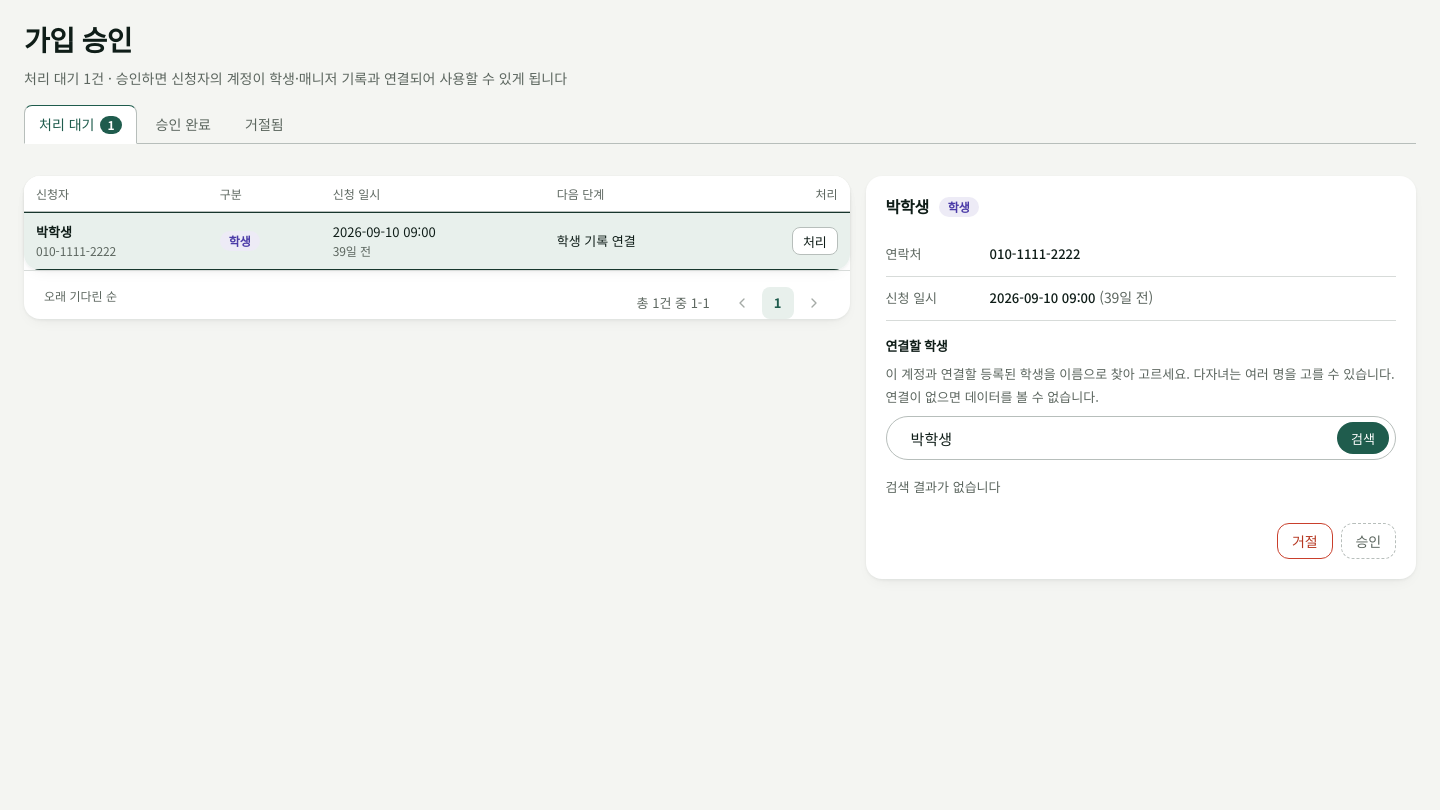
Test: SignupApprovalPage — 이미 연결된 대상(ALREADY_LINKED) › 학생 승인이 ALREADY_LINKED 로 거절되면 다른 학생을 고르라는 문구를 보이고 선택을 고칠 수 있다
What coordinates should you click on to do the following:
click the button "처리"
I would click on:
 (815, 241)
Its box is [792,227,838,255].
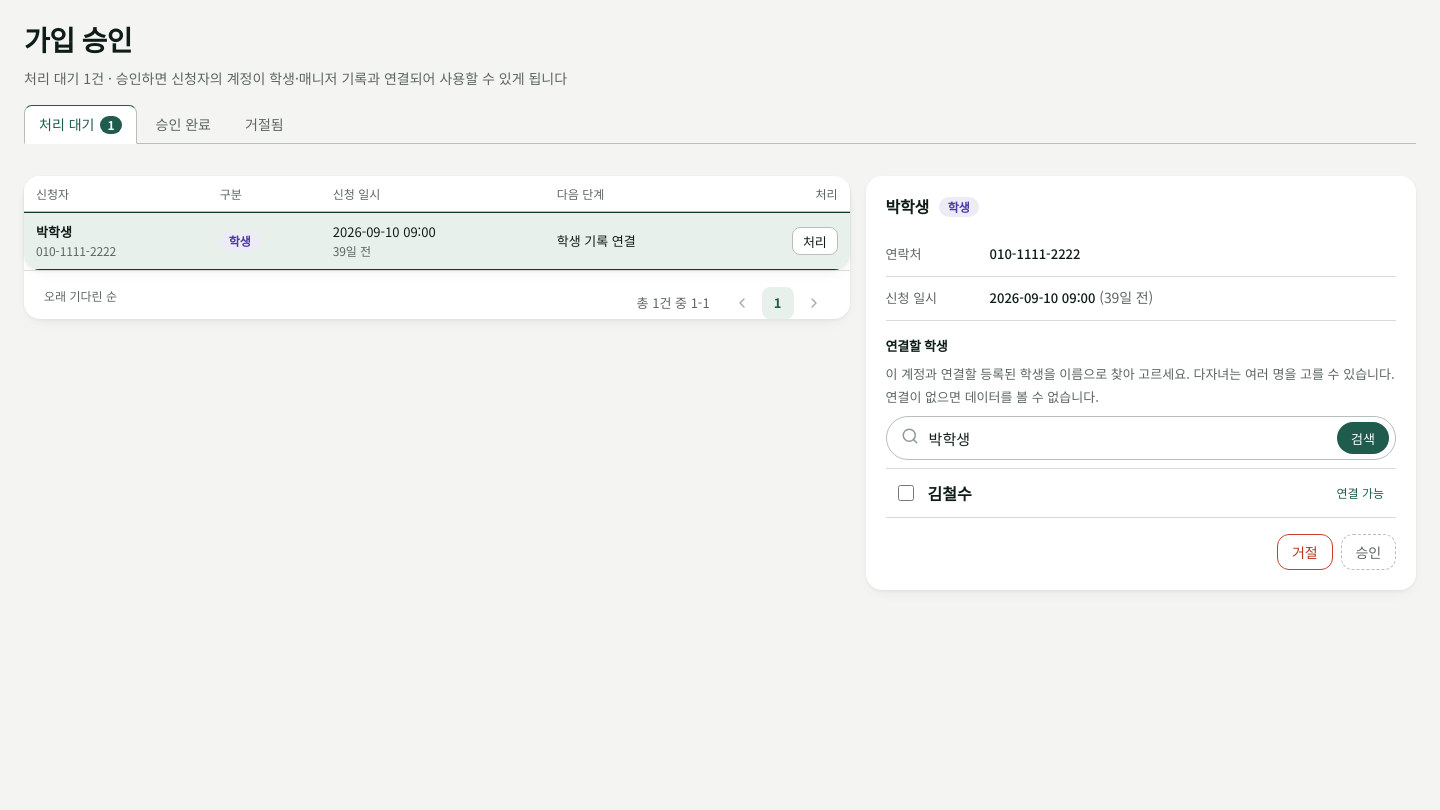
What coordinates should you click on to do the following:
click the checkbox labelled "김철수 연결 가능"
I would click on:
 (906, 493)
Its box is [898,485,914,501].
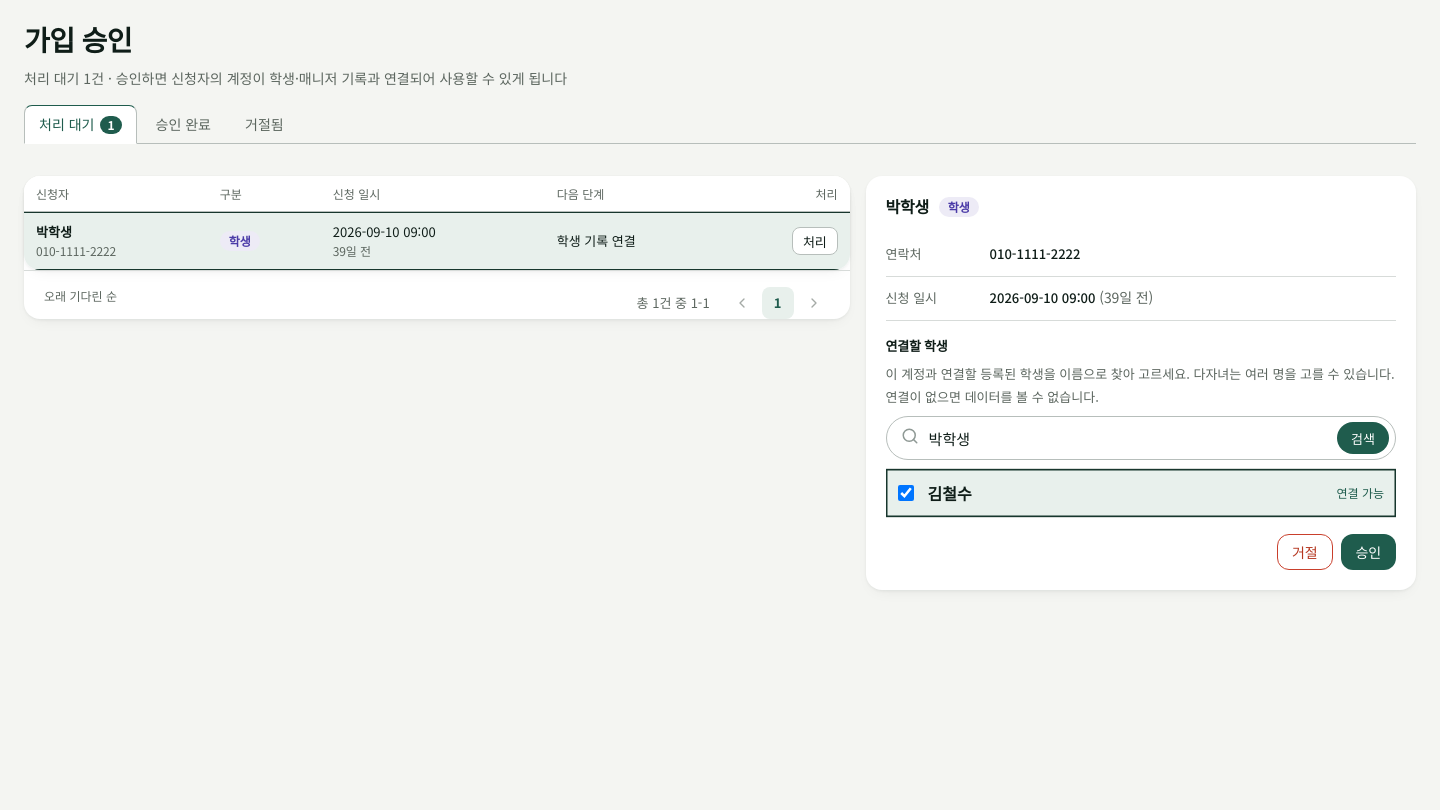
What coordinates should you click on to do the following:
click the button "승인"
I would click on:
 (1368, 552)
Its box is [1340,534,1396,570].
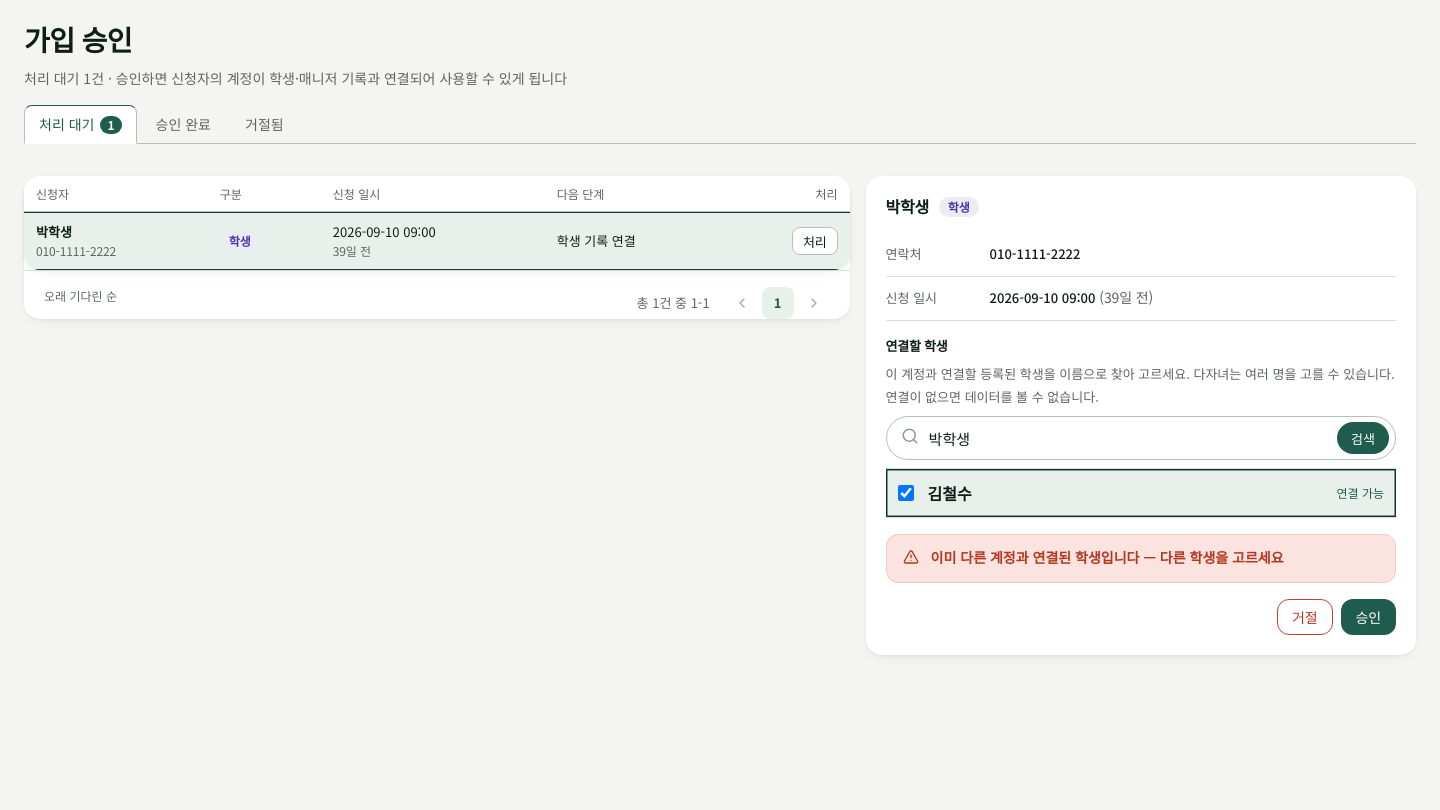
Expected: the checkbox labelled "김철수 연결 가능" is enabled, [898,485,914,501]
Expected: the button "승인" is enabled, [1340,599,1396,635]
Expected: the text "이미 다른 계정과 연결된 학생입니다 — 다른 학생을 고르세요" is shown, [931,547,1284,567]
